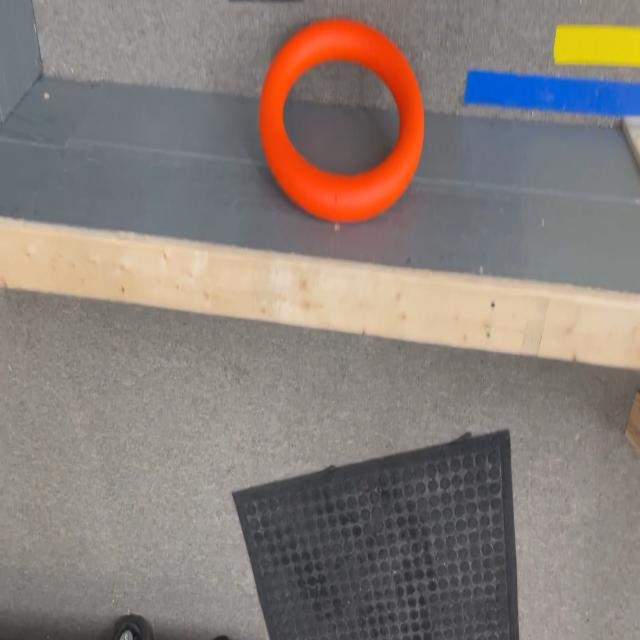note: (257, 17, 423, 224)
